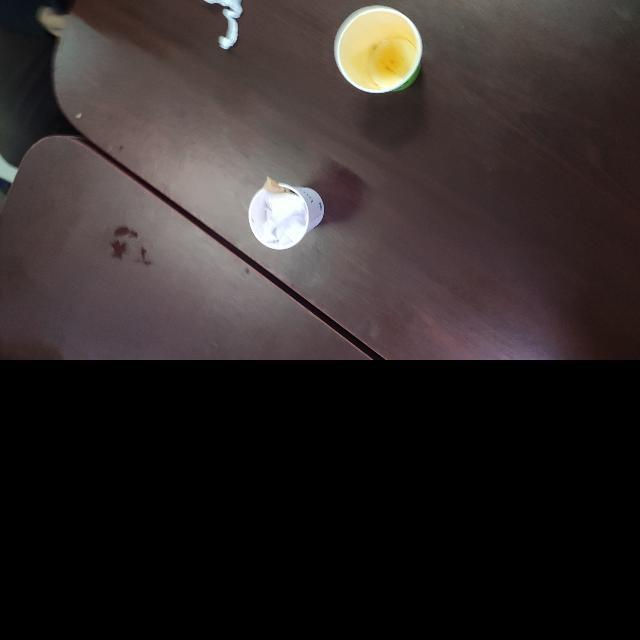kitchen paper: (198, 0, 246, 58)
